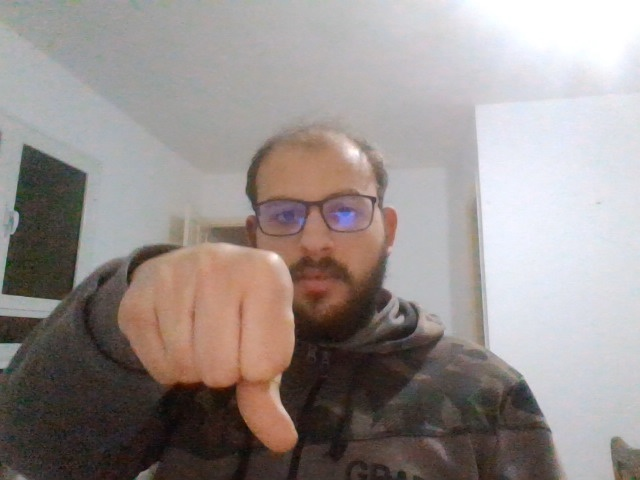Yes: (120, 244, 298, 454)
